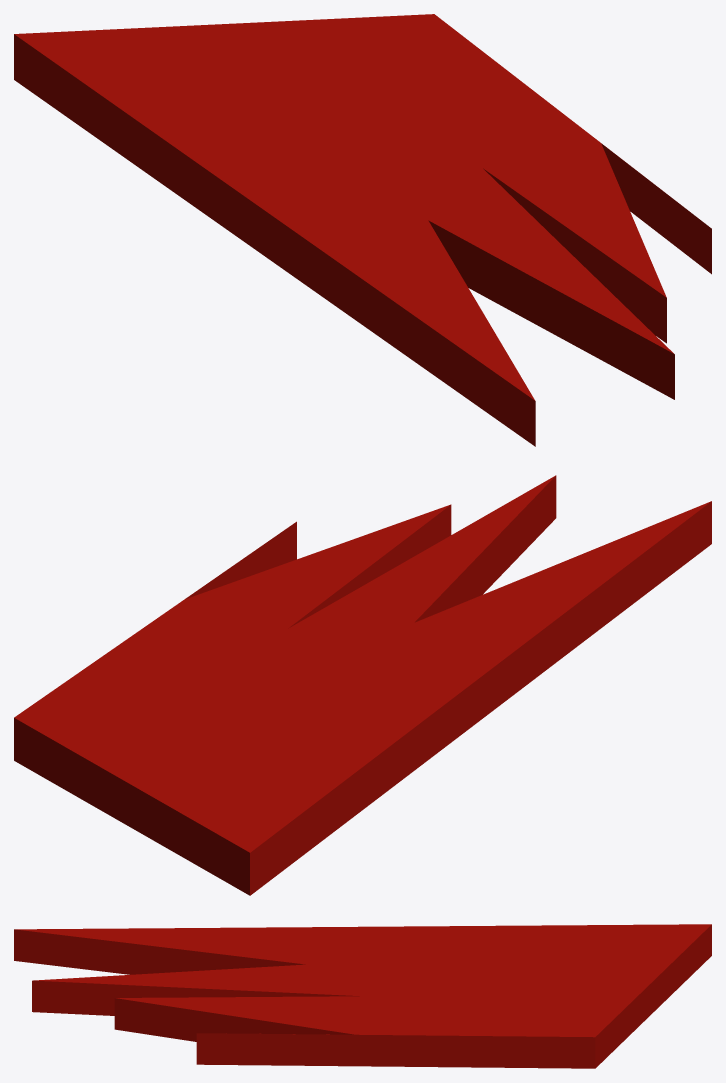
Rendered from cloth_thread.fbx.
3 views of the same model, one above another, from view 1: azimuth 30°, elevation 25°; view 2: azimuth 150°, elevation 25°; view 3: azimuth 270°, elevation 25° (orthographic). The views are drawn at different scales.
Parts seen in each view (by area): view 1: PolyShape; view 2: PolyShape; view 3: PolyShape.
Part boxes in pixels (x1=…): PolyShape: x1=14, y1=14, x2=711, y2=446; PolyShape: x1=14, y1=475, x2=711, y2=895; PolyShape: x1=14, y1=924, x2=711, y2=1068.
Bounding box in the file's own units: 15.35 × 2 × 40.1.
